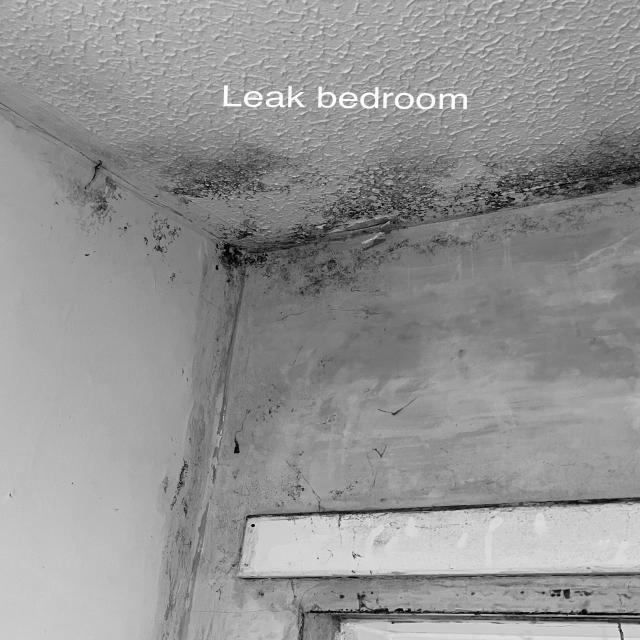stain marks: (142, 109, 639, 512), (228, 572, 640, 626), (32, 134, 149, 262), (147, 515, 237, 640)
